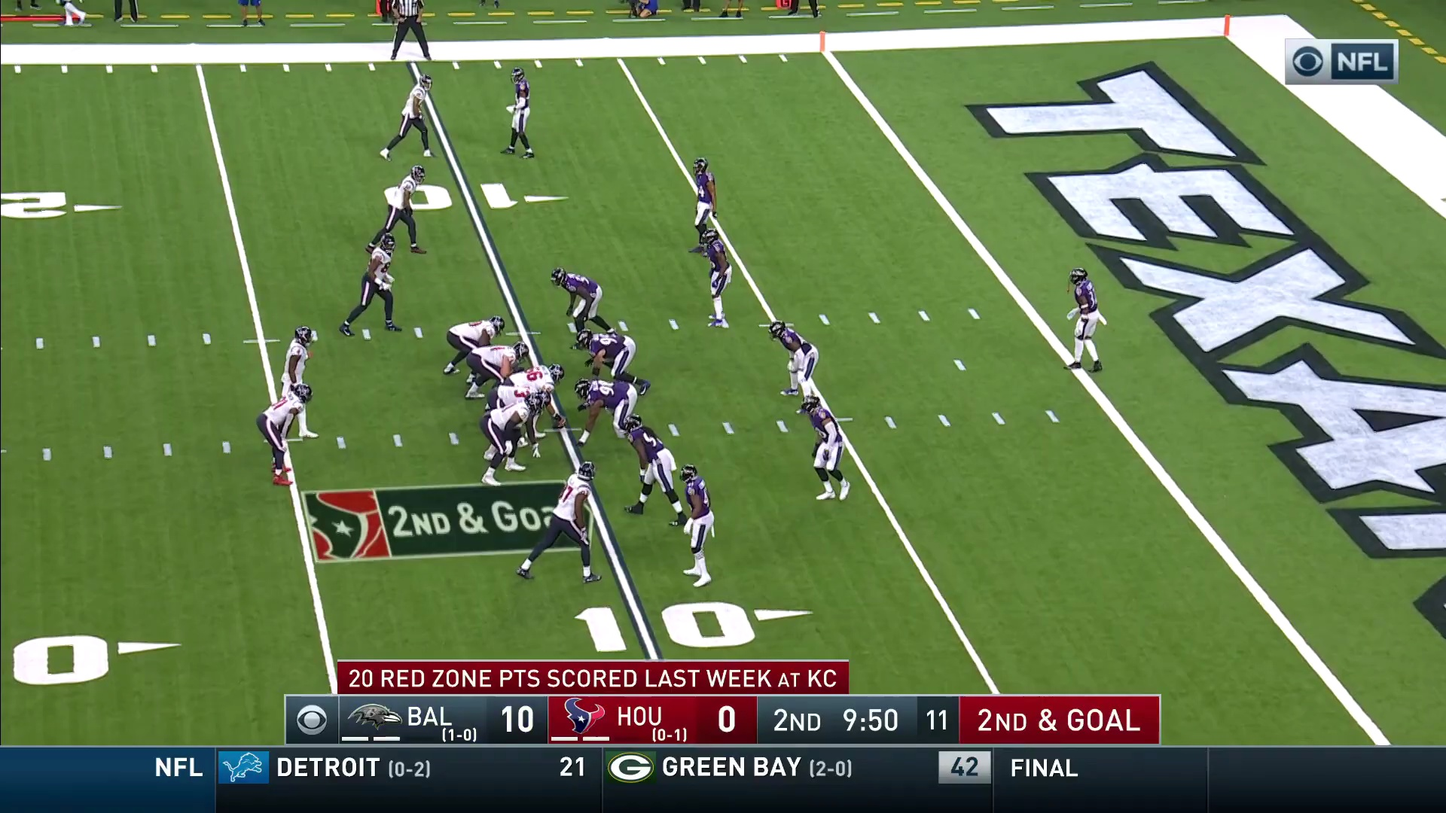Player: (495, 365, 560, 447), (482, 387, 534, 484), (770, 320, 820, 410), (276, 326, 316, 437), (576, 376, 640, 437), (1068, 267, 1105, 371), (697, 221, 732, 328), (683, 465, 714, 585), (465, 341, 524, 398), (575, 327, 636, 379)
